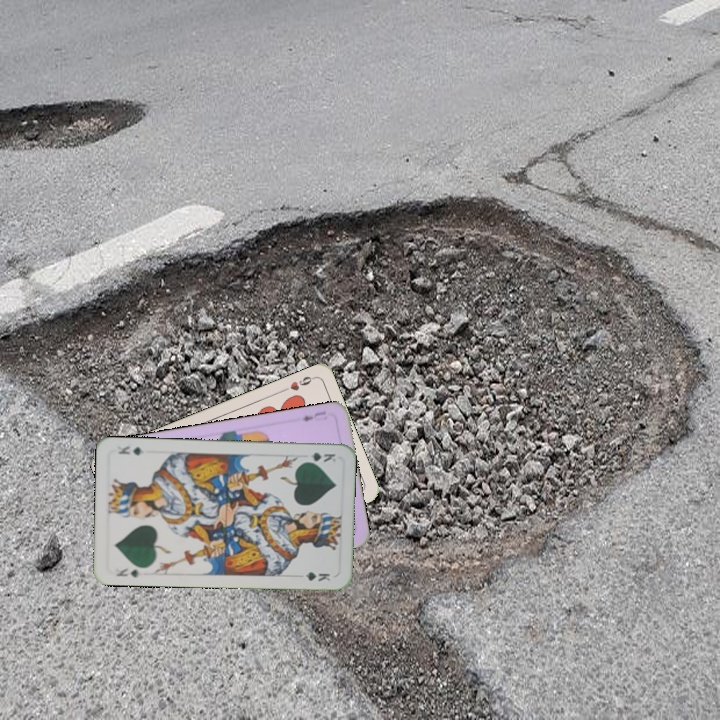EU: (297, 407, 329, 424)
GK: (299, 448, 338, 465), (113, 564, 144, 580)
H9: (279, 372, 318, 394)
